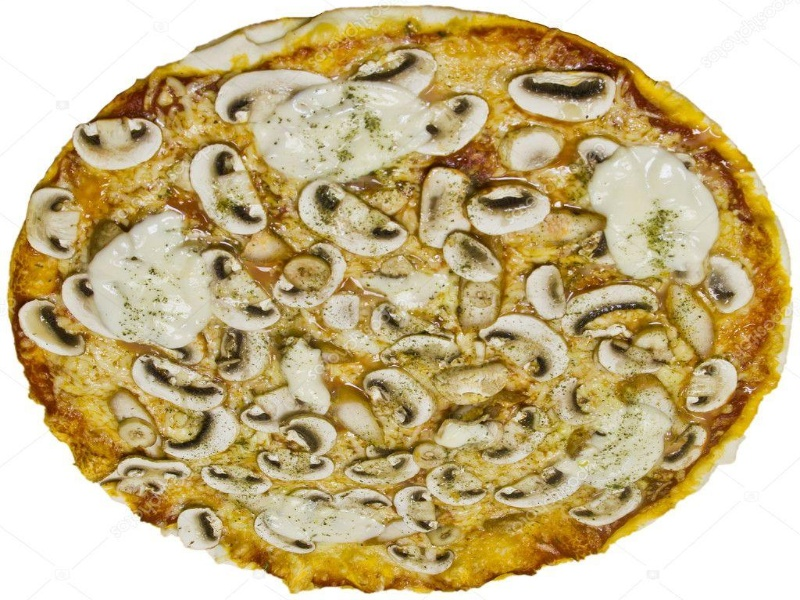champignon: (295, 175, 416, 261), (188, 142, 280, 242), (476, 310, 581, 391), (504, 60, 627, 127), (198, 242, 284, 336), (548, 282, 669, 342), (128, 345, 226, 413), (462, 178, 559, 239), (357, 365, 440, 434), (492, 461, 589, 518), (69, 117, 173, 170), (16, 294, 92, 366), (420, 91, 493, 164), (355, 45, 443, 100), (25, 186, 87, 261), (676, 354, 743, 416), (561, 482, 647, 528), (240, 385, 314, 435), (345, 449, 423, 491), (424, 459, 491, 506), (382, 536, 456, 576), (393, 482, 443, 541), (279, 413, 340, 461), (173, 502, 228, 554)
